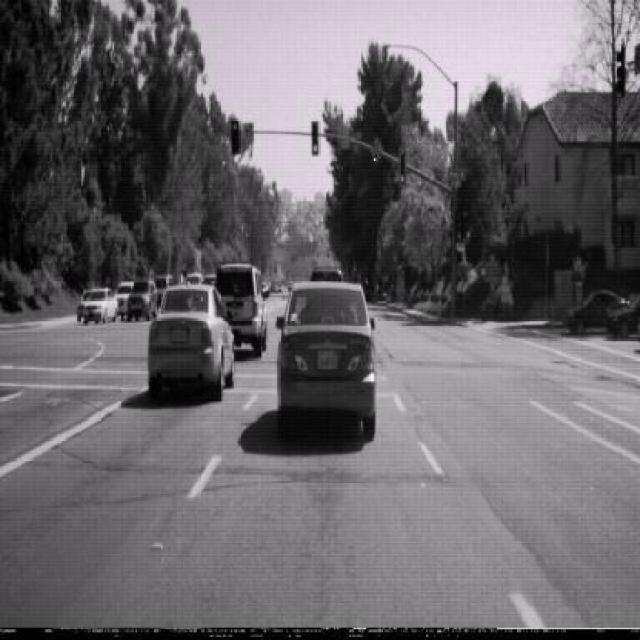laneEnds: (369, 134, 384, 165)
